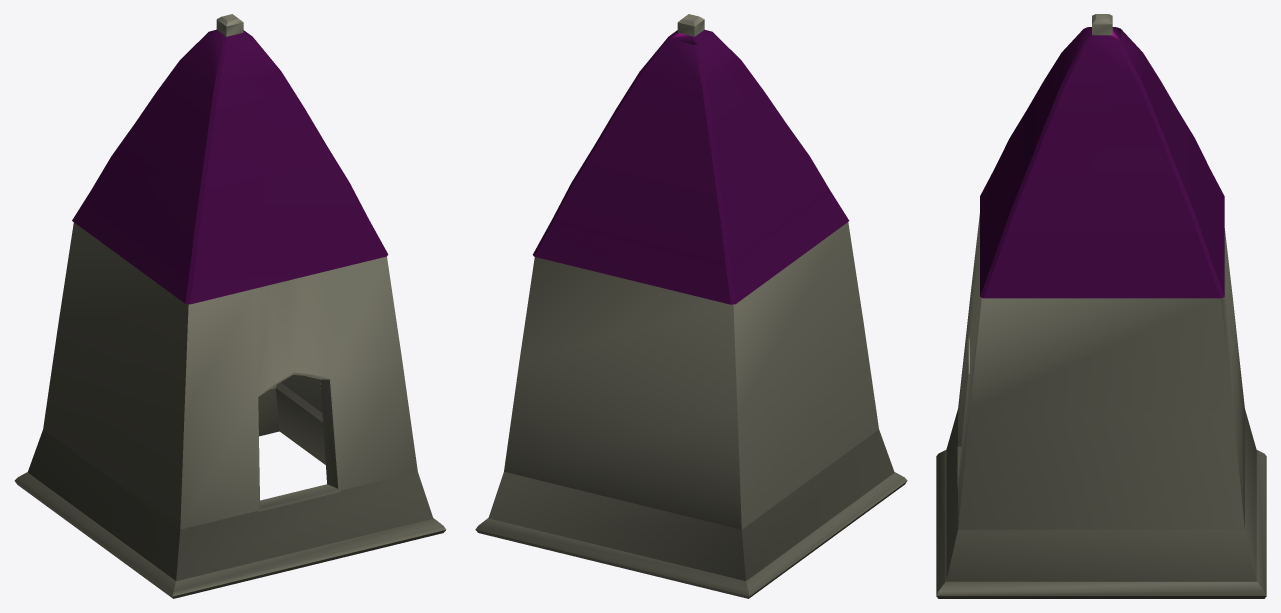
File: tomb small.fbx
3 views of the same model, side by side, from view 1: azimuth 30°, elevation 25°; view 2: azimuth 150°, elevation 25°; view 3: azimuth 270°, elevation 25° (orthographic). The views are drawn at different scales.
Parts seen in each view (by area): view 1: carcass, roof, base, window; view 2: carcass, roof, base; view 3: carcass, roof, base, window.
Part boxes in pixels (x1=…): carcass: x1=43, y1=14, x2=417, y2=529; roof: x1=72, y1=29, x2=388, y2=304; base: x1=14, y1=382, x2=446, y2=598; window: x1=256, y1=372, x2=340, y2=511; carcass: x1=504, y1=14, x2=878, y2=529; roof: x1=532, y1=29, x2=849, y2=304; base: x1=475, y1=429, x2=907, y2=598; carcass: x1=958, y1=14, x2=1244, y2=529; roof: x1=980, y1=27, x2=1224, y2=298; base: x1=936, y1=409, x2=1266, y2=598; window: x1=957, y1=335, x2=969, y2=488.
Size of the model in its own units: 639 by 1094 by 639.
